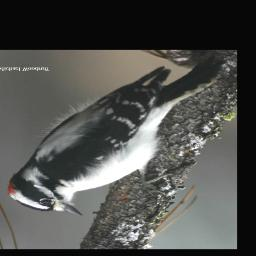Woodpecker: (7, 57, 224, 216)
